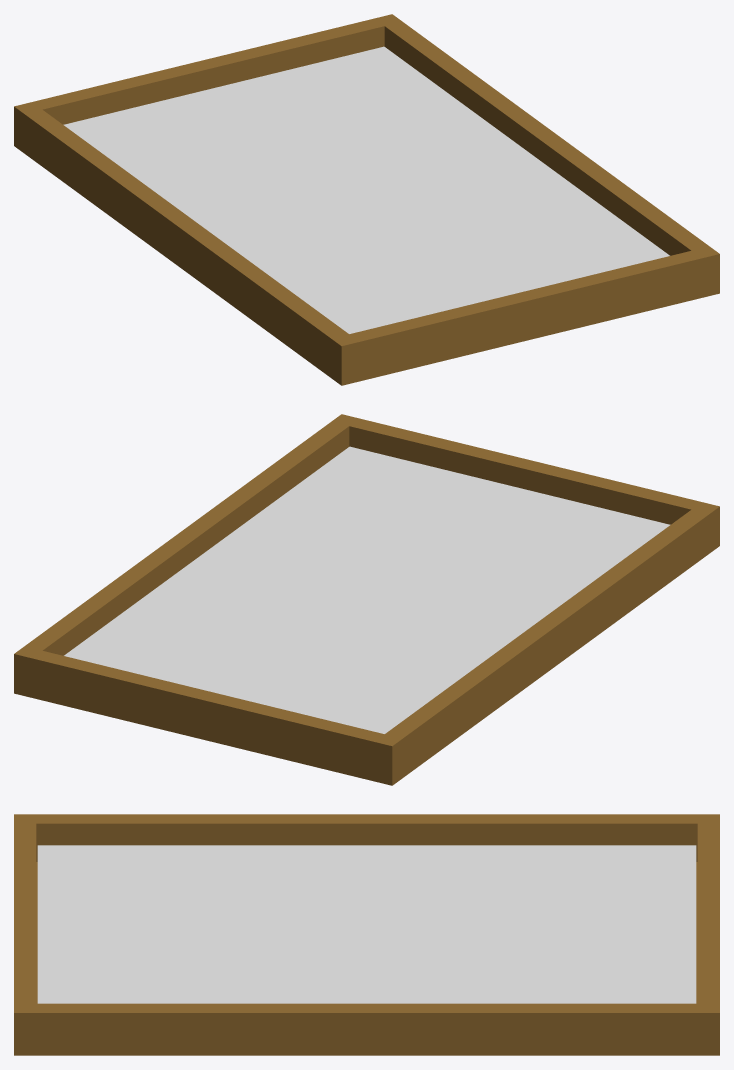
Rendered from frame3x2.fbx.
3 views of the same model, one above another, from view 1: azimuth 30°, elevation 25°; view 2: azimuth 150°, elevation 25°; view 3: azimuth 270°, elevation 25° (orthographic). The views are drawn at different scales.
Parts seen in each view (by area): view 1: canvas3x2, frame3x2; view 2: canvas3x2, frame3x2; view 3: canvas3x2, frame3x2.
Part boxes in pixels (x1,y1,x2,y2): canvas3x2: [63, 46, 669, 333]; frame3x2: [14, 14, 719, 385]; canvas3x2: [64, 446, 670, 733]; frame3x2: [14, 414, 719, 785]; canvas3x2: [37, 845, 696, 1003]; frame3x2: [14, 814, 719, 1055].
Size of the model in its own units: 200 by 20 by 300.
